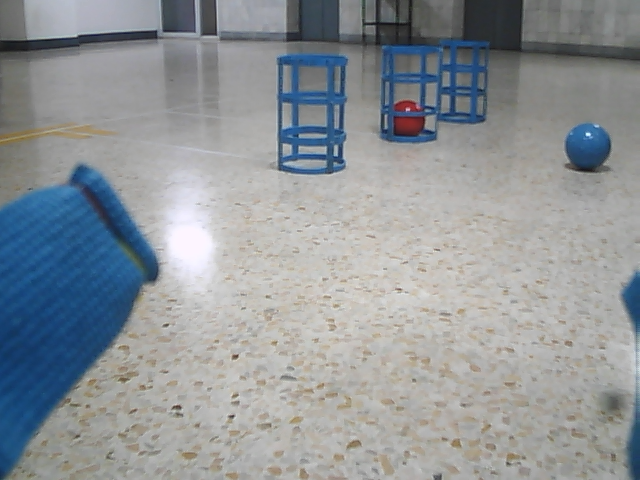Blue ball: (564, 122, 612, 170)
Cyro: (273, 52, 351, 178), (378, 43, 444, 143), (438, 36, 492, 126)
Red ball: (391, 99, 426, 138)
